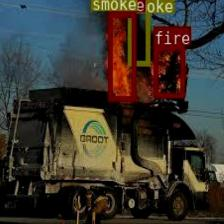fire: (107, 12, 135, 100), (153, 44, 184, 96)
smoke: (126, 0, 148, 65), (90, 0, 108, 8)
